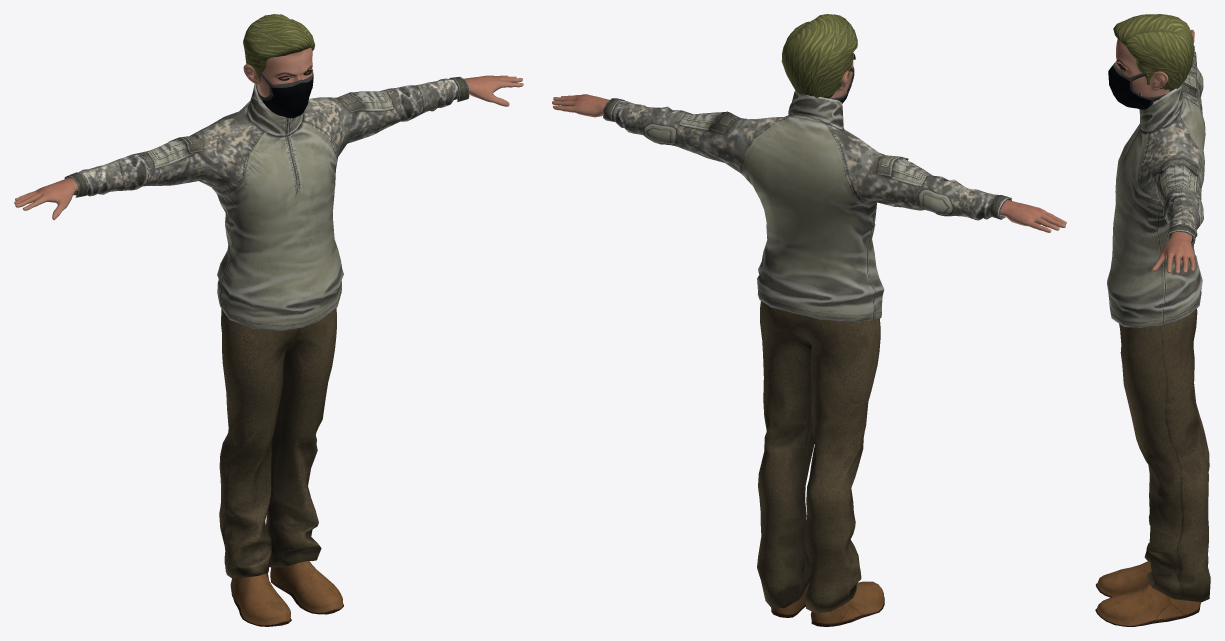
Rendered from Hero before coma in college outfit.obj.
The picture shows the model from 3 angles, left to right: view 1: azimuth 30°, elevation 25°; view 2: azimuth 150°, elevation 25°; view 3: azimuth 270°, elevation 25°; orthographic projection.
Parts seen in each view (by area): view 1: Tops, Bottoms, Shoes, Body, Hair, Masks; view 2: Tops, Bottoms, Hair, Body, Shoes; view 3: Tops, Bottoms, Hair, Shoes, Body, Masks.
Part boxes in pixels (x1,y1,x2,y2): Tops: [64, 76, 469, 330]; Bottoms: [219, 272, 336, 578]; Shoes: [230, 561, 343, 626]; Body: [14, 47, 523, 220]; Hair: [243, 14, 314, 82]; Masks: [256, 69, 313, 118]; Tops: [603, 90, 1011, 321]; Bottoms: [757, 301, 880, 613]; Hair: [781, 14, 857, 98]; Body: [552, 52, 1066, 232]; Shoes: [771, 581, 884, 626]; Tops: [1107, 45, 1205, 327]; Bottoms: [1119, 308, 1210, 602]; Hair: [1113, 14, 1193, 91]; Shoes: [1095, 561, 1200, 626]; Body: [1114, 29, 1194, 273]; Masks: [1108, 63, 1166, 109].
Size of the model in its own units: 156 by 172 by 30.46.
Materials: 7 (7 with a texture image).
